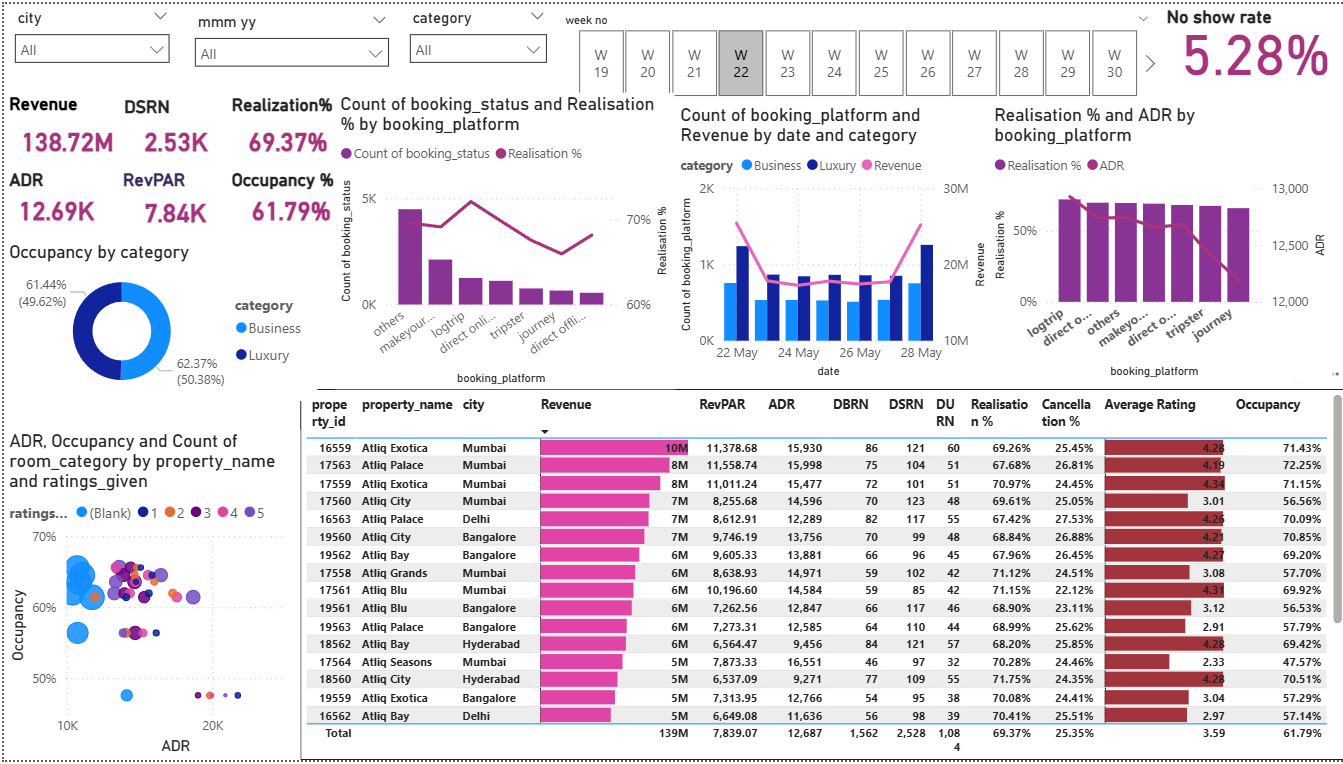

Layout of this report page (visuals, bound fields, positions):
{"tool":"powerbi","page":{"name":"Page 1","canvas":[1280,720],"ordinal":0},"visuals":[{"type":"tableEx","fields":{"Values":["dim_hotels.property_id","dim_hotels.property_name","dim_hotels.city","key_measures.Revenue","key_measures.RevPAR","key_measures.ADR","key_measures.DBRN","key_measures.DSRN","key_measures.DURN","key_measures.Realisation %","key_measures.Cancellation %","key_measures.Average Rating"]},"box":[282.7,366.7,997.5,353.1],"z":0},{"type":"slicer","fields":{"Values":["dim_hotels.city"]},"box":[0,0,167.9,80.2],"z":1000},{"type":"slicer","fields":{"Values":["dim_date.mmm yy.Variation.Date Hierarchy.Year"]},"box":[171.6,3.7,204.9,75.3],"z":2000},{"type":"slicer","fields":{"Values":["dim_date.week no"]},"box":[521,3.7,581.5,91.4],"z":3000},{"type":"slicer","fields":{"Values":["dim_hotels.category"]},"box":[376.5,0,150.6,84],"z":4000},{"type":"card","title":"Revenue","fields":{"Values":["key_measures.Revenue"]},"box":[0,84,121,72.8],"z":5000},{"type":"donutChart","fields":{"Category":["dim_hotels.category"],"Y":["key_measures.Occupancy"]},"box":[0,225.9,298.8,151.9],"z":6000},{"type":"card","title":"RevPAR","fields":{"Values":["key_measures.RevPAR"]},"box":[108.6,156.8,109.9,63],"z":7000},{"type":"card","title":"DSRN","fields":{"Values":["key_measures.DSRN"]},"box":[109.9,87.7,108.6,65.4],"z":8000},{"type":"card","title":"ADR","fields":{"Values":["key_measures.ADR"]},"box":[0,156.8,100,59.3],"z":9000},{"type":"card","title":"Realization%","fields":{"Values":["key_measures.Realisation %"]},"box":[212.3,85.2,117.3,70.4],"z":10000},{"type":"card","title":"Occupancy %","fields":{"Values":["key_measures.Occupancy"]},"box":[212.3,156.8,123.5,59.3],"z":11000},{"type":"lineClusteredColumnComboChart","fields":{"Y":["CountNonNull(fact_bookings.booking_platform)"],"Series":["dim_hotels.category"],"Category":["dim_date.date"],"Y2":["key_measures.Revenue"]},"box":[639.5,95.1,302.5,265.4],"z":12000},{"type":"card","title":"No show rate","fields":{"Values":["key_measures.No Show rate %"]},"box":[1102.5,2.5,177.8,81.5],"z":13000},{"type":"lineStackedColumnComboChart","fields":{"Category":["fact_bookings.booking_platform"],"Y":["CountNonNull(fact_bookings.booking_status)"],"Y2":["key_measures.Realisation %"]},"box":[316,84,323.5,282.7],"z":13001},{"type":"lineClusteredColumnComboChart","fields":{"Y":["key_measures.Realisation %"],"Y2":["key_measures.ADR"],"Category":["fact_bookings.booking_platform"]},"box":[938.3,95.1,327.2,265.4],"z":13002},{"type":"scatterChart","fields":{"X":["key_measures.ADR"],"Y":["key_measures.Occupancy"],"Category":["dim_hotels.property_name"],"Series":["fact_bookings.ratings_given"],"Size":["CountNonNull(fact_bookings.room_category)"]},"box":[0,406.2,282.7,313.6],"z":13003}]}

Visuals, with their boxes in screenshot pixels (x1, y1, x2, y2), scaled from the page's 1280x720 canvas onto the 1343x764 screenshot:
tableEx - dim_hotels.property_id x dim_hotels.property_name: 297 389 1342 763
slicer - dim_hotels.city: 0 0 176 85
slicer - dim_date.mmm yy.Variation.Date Hierarchy.Year: 180 4 395 84
slicer - dim_date.week no: 547 4 1157 101
slicer - dim_hotels.category: 395 0 553 89
"Revenue" card: 0 89 127 166
donutChart - dim_hotels.category x key_measures.Occupancy: 0 240 314 401
"RevPAR" card: 114 166 229 233
"DSRN" card: 115 93 229 162
"ADR" card: 0 166 105 229
"Realization%" card: 223 90 346 165
"Occupancy %" card: 223 166 352 229
lineClusteredColumnComboChart - CountNonNull(fact_bookings.booking_platform) x dim_hotels.category: 671 101 988 383
"No show rate" card: 1157 3 1342 89
lineStackedColumnComboChart - fact_bookings.booking_platform x CountNonNull(fact_bookings.booking_status): 332 89 671 389
lineClusteredColumnComboChart - key_measures.Realisation % x key_measures.ADR: 984 101 1328 383
scatterChart - key_measures.ADR x key_measures.Occupancy: 0 431 297 763
